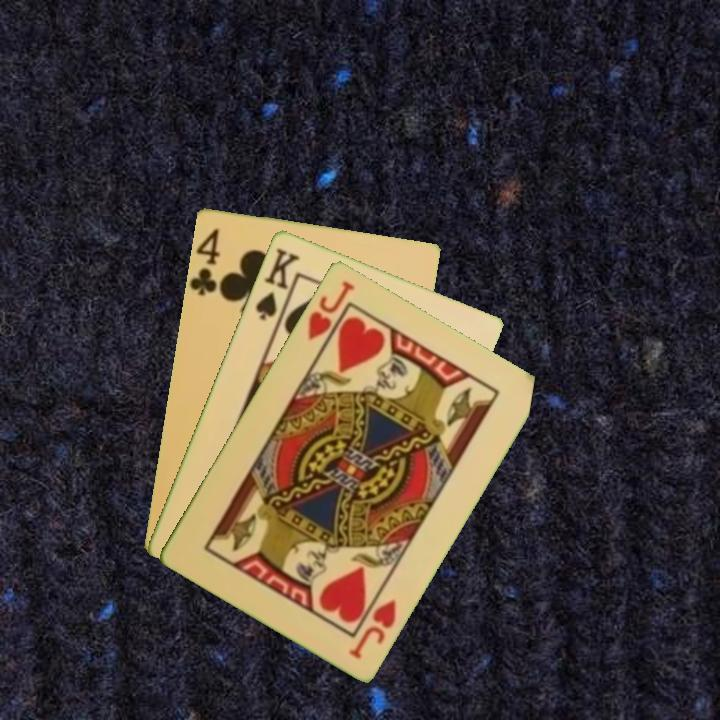4c: (187, 223, 222, 299)
Jh: (303, 276, 358, 343), (345, 595, 399, 661)
Ks: (251, 243, 302, 323)
